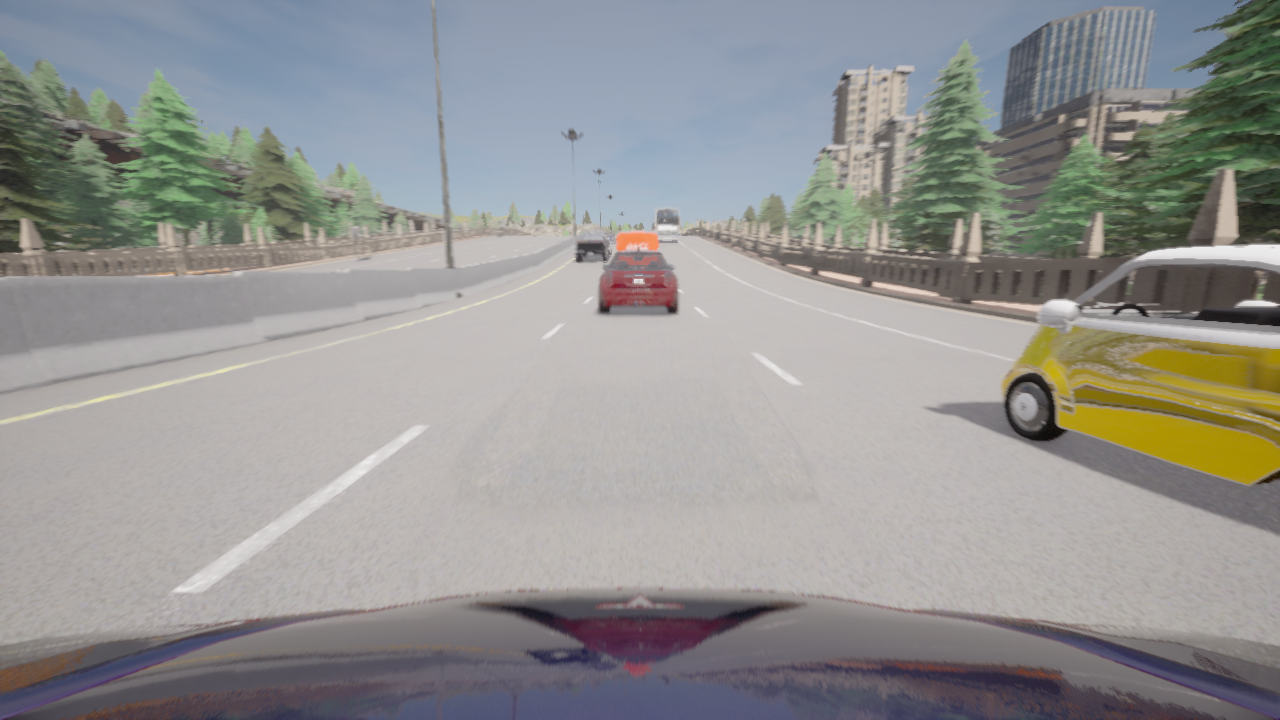cyclist: (0, 588, 1279, 719), (999, 244, 1279, 485), (599, 247, 677, 313), (648, 207, 680, 242), (575, 232, 610, 261), (617, 231, 657, 251), (604, 232, 617, 244)
pedestrian: (315, 234, 320, 246)
